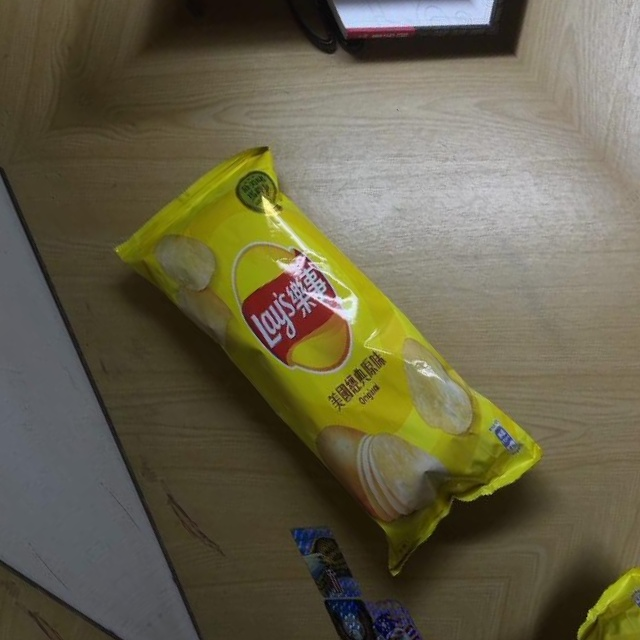Lay-s-original: (104, 113, 551, 590)
